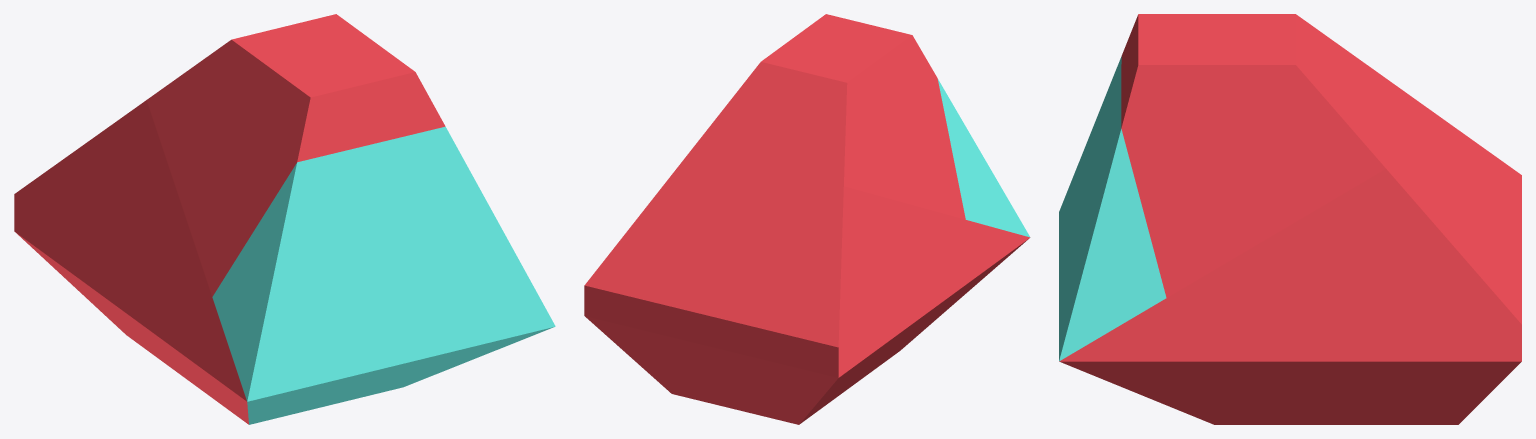
Rendered from porygonCuerpo.obj.
3 views of the same model, side by side, from view 1: azimuth 30°, elevation 25°; view 2: azimuth 150°, elevation 25°; view 3: azimuth 270°, elevation 25° (orthographic). The views are drawn at different scales.
Parts seen in each view (by area): view 1: porygonCuerpo; view 2: porygonCuerpo; view 3: porygonCuerpo.
Part boxes in pixels (left/top/right/bottom): porygonCuerpo: left=14, top=14, right=555, bottom=424; porygonCuerpo: left=584, top=14, right=1030, bottom=424; porygonCuerpo: left=1059, top=14, right=1521, bottom=424.
Size of the model in its own units: 1.21 by 1.31 by 1.58.
1 material, 1 textured.
